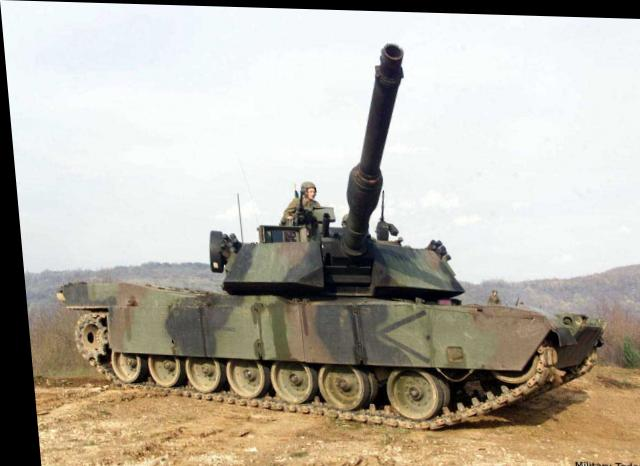other: (258, 140, 340, 241)
tank: (62, 212, 572, 411)
